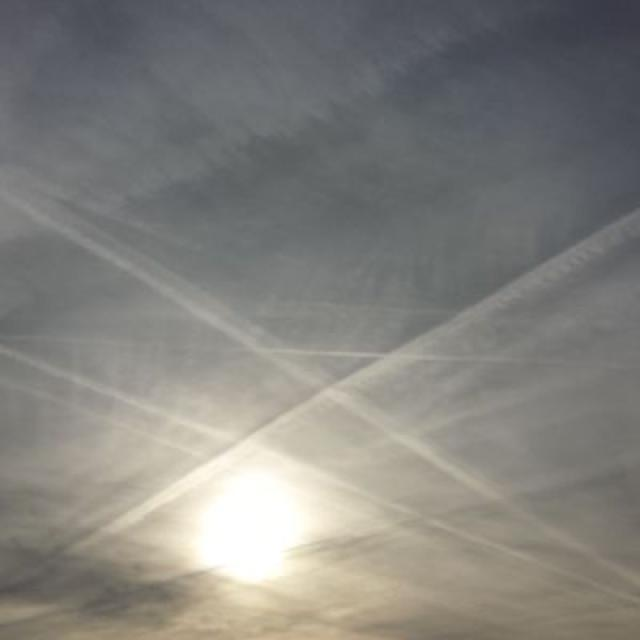Ct: (1, 26, 640, 640)
